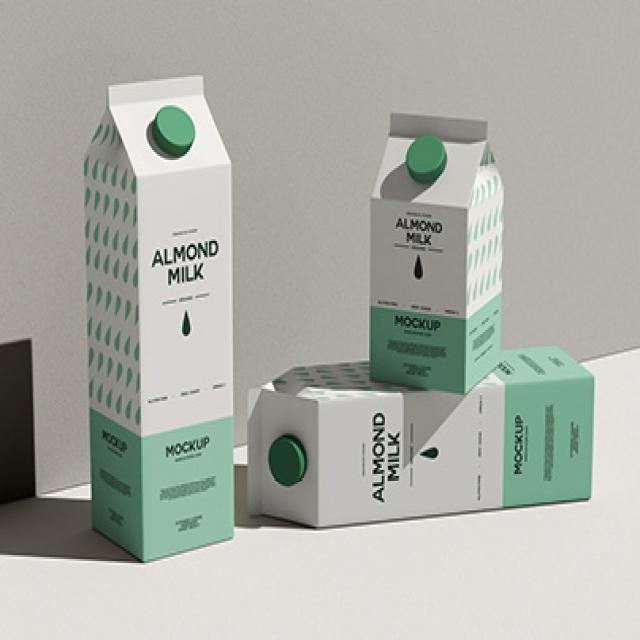non_white_jug: (80, 68, 254, 585), (234, 351, 625, 538), (359, 100, 518, 398)
